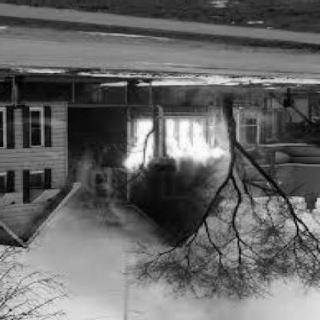Fire: (119, 113, 230, 177)
